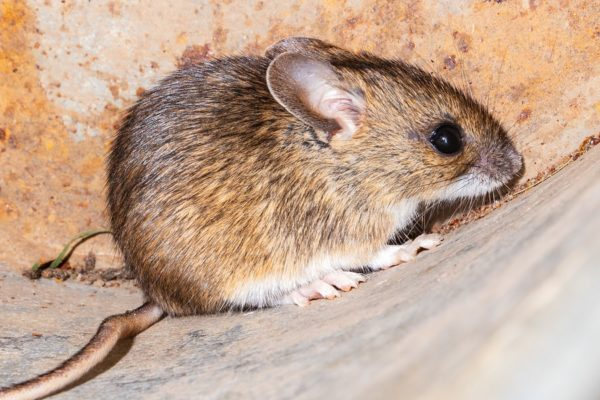mouse: (86, 25, 537, 322)
